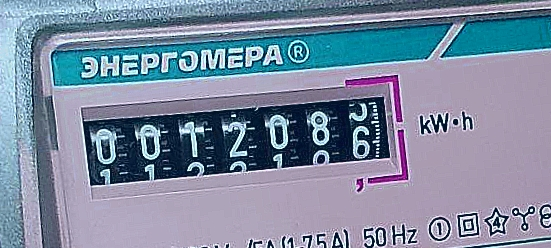0: (133, 118, 166, 164), (90, 122, 119, 167), (264, 110, 292, 152)
1: (178, 116, 205, 160)
2: (222, 118, 251, 159)
6: (345, 122, 374, 161)
8: (306, 106, 333, 149)
screen: (69, 53, 423, 234)
